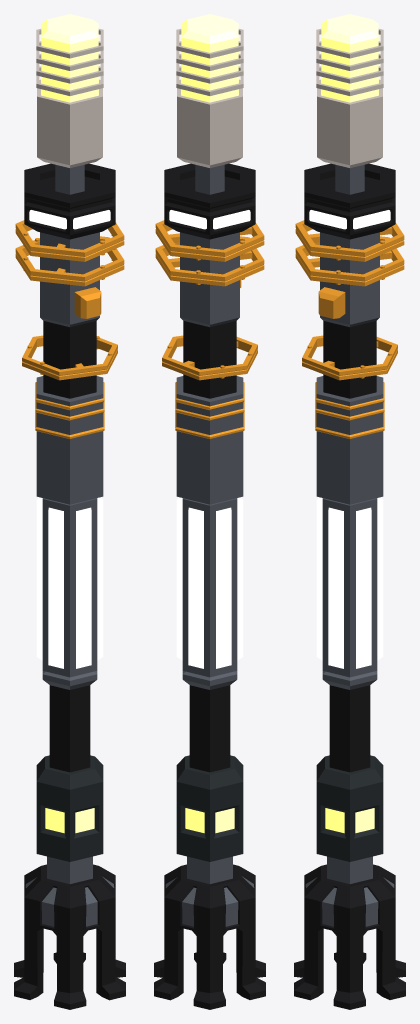
Rendered from SM_Cable_pole.glb.
The picture shows the model from 3 angles, left to right: view 1: azimuth 30°, elevation 25°; view 2: azimuth 150°, elevation 25°; view 3: azimuth 330°, elevation 25°; orthographic projection.
Parts seen in each view (by area): view 1: SM_Cable_pole; view 2: SM_Cable_pole; view 3: SM_Cable_pole.
Boxes of the visible parts, x1,y1,x2,y2 form: SM_Cable_pole: (14,14,125,1009); SM_Cable_pole: (154,14,265,1009); SM_Cable_pole: (294,14,405,1009).
Bounding box in the file's own units: 0.7291 × 5.96 × 0.6314.
Materials: 3 (1 with a texture image).
